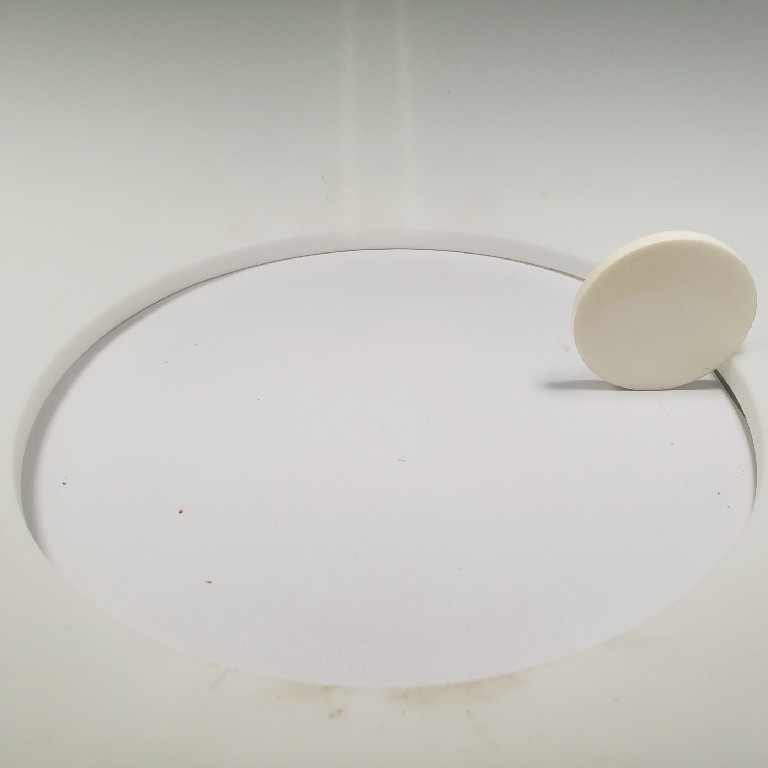ceramics: (565, 222, 760, 397)
